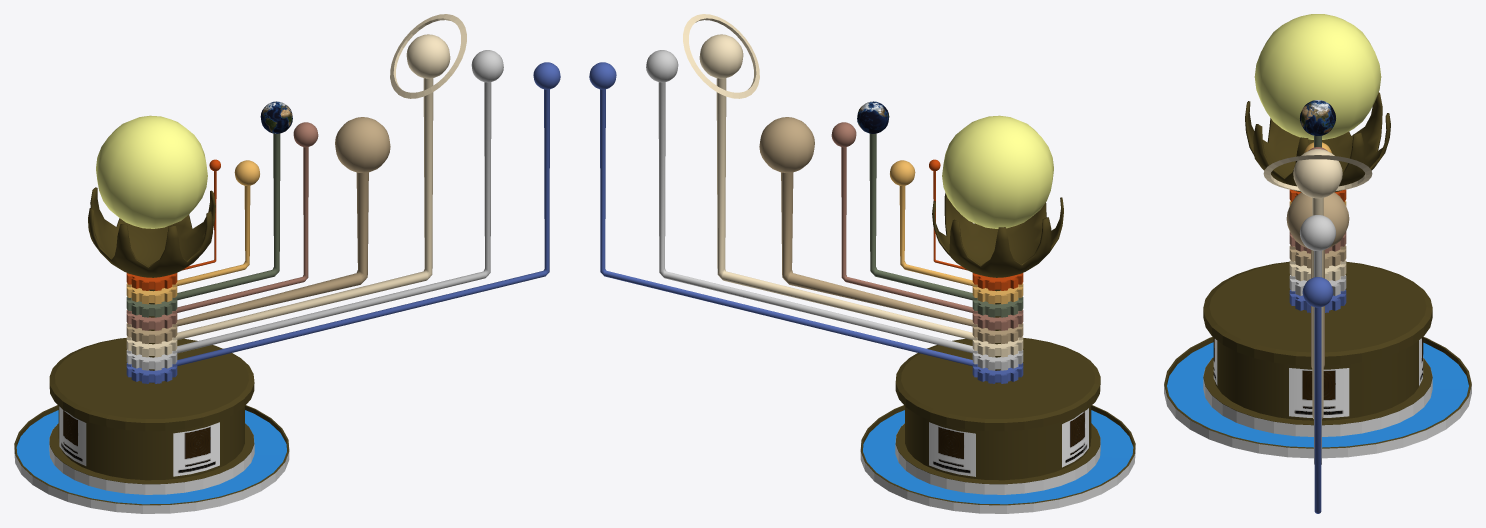
Rendered from SolarConjunctionMachine.fbx.
3 views of the same model, side by side, from view 1: azimuth 30°, elevation 25°; view 2: azimuth 150°, elevation 25°; view 3: azimuth 270°, elevation 25° (orthographic). The views are drawn at different scales.
Parts seen in each view (by area): view 1: ConjunctionBase, ConjunctionShaders, Sun, Saturn, Jupiter, Uranus, Neptune, Earth, ConjunctionLogo, Mars, Venus, Saturn Ring.001 (+1 smaller); view 2: ConjunctionBase, ConjunctionShaders, Sun, Saturn, Jupiter, Uranus, Neptune, Earth, ConjunctionLogo, Mars, Venus, Saturn Ring.001 (+1 smaller); view 3: ConjunctionBase, ConjunctionShaders, Sun, Saturn, Neptune, ConjunctionLogo, Jupiter, Uranus, Earth, Saturn Ring.001, Mars.
Boxes of the visible parts, x1=… form: ConjunctionBase: x1=14, y1=187, x2=289, y2=505; ConjunctionShaders: x1=14, y1=410, x2=289, y2=513; Sun: x1=96, y1=115, x2=207, y2=228; Saturn: x1=126, y1=34, x2=450, y2=357; Jupiter: x1=126, y1=117, x2=390, y2=344; Uranus: x1=126, y1=50, x2=503, y2=370; Neptune: x1=126, y1=62, x2=560, y2=383; Earth: x1=126, y1=101, x2=292, y2=317; ConjunctionLogo: x1=59, y1=406, x2=219, y2=476; Mars: x1=126, y1=122, x2=318, y2=330; Venus: x1=126, y1=160, x2=259, y2=304; Saturn Ring.001: x1=390, y1=14, x2=466, y2=98; ConjunctionBase: x1=860, y1=193, x2=1135, y2=505; ConjunctionShaders: x1=860, y1=410, x2=1135, y2=513; Sun: x1=942, y1=115, x2=1053, y2=228; Saturn: x1=699, y1=34, x2=1023, y2=357; Jupiter: x1=759, y1=117, x2=1023, y2=344; Uranus: x1=646, y1=50, x2=1023, y2=370; Neptune: x1=589, y1=62, x2=1023, y2=383; Earth: x1=857, y1=101, x2=1023, y2=317; ConjunctionLogo: x1=929, y1=408, x2=1088, y2=476; Mars: x1=831, y1=122, x2=1023, y2=330; Venus: x1=890, y1=160, x2=1023, y2=304; Saturn Ring.001: x1=683, y1=14, x2=759, y2=98; ConjunctionBase: x1=1164, y1=92, x2=1471, y2=448; ConjunctionShaders: x1=1164, y1=338, x2=1471, y2=458; Sun: x1=1254, y1=14, x2=1381, y2=139; Saturn: x1=1289, y1=149, x2=1346, y2=418; Neptune: x1=1289, y1=277, x2=1346, y2=513; ConjunctionLogo: x1=1213, y1=337, x2=1423, y2=417; Jupiter: x1=1286, y1=192, x2=1349, y2=367; Uranus: x1=1289, y1=215, x2=1346, y2=464; Earth: x1=1300, y1=100, x2=1335, y2=147; Saturn Ring.001: x1=1263, y1=155, x2=1372, y2=190; Mars: x1=1289, y1=147, x2=1346, y2=253.
Size of the model in its own units: 2278 by 1503 by 1034.
